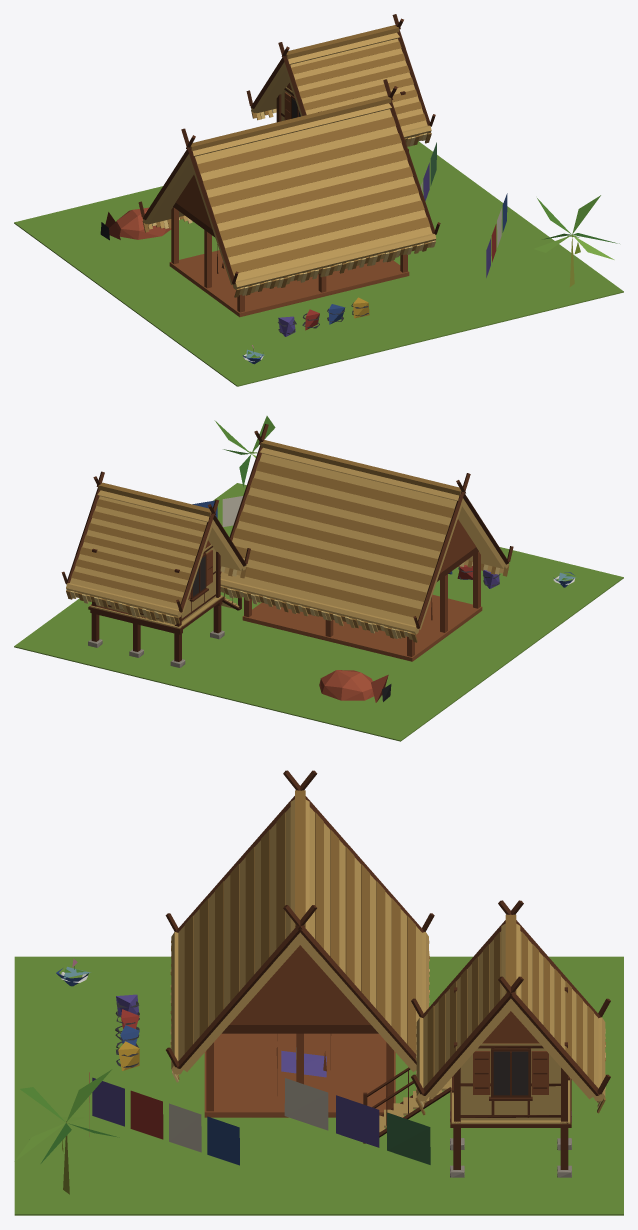
File: factory_1.glb
The picture shows the model from 3 angles, top to bottom: view 1: azimuth 30°, elevation 25°; view 2: azimuth 150°, elevation 25°; view 3: azimuth 270°, elevation 25°; orthographic projection. The views are drawn at different scales.
Parts seen in each view (by area): view 1: body; view 2: body; view 3: body, windows.
Boxes of the visible parts, box(x1,y1,x2,y2) form: body: box(14, 14, 623, 386); body: box(14, 416, 623, 741); body: box(14, 770, 623, 1215); windows: box(493, 1051, 528, 1095).
Size of the model in its own units: 16.16 by 6.52 by 15.92.
